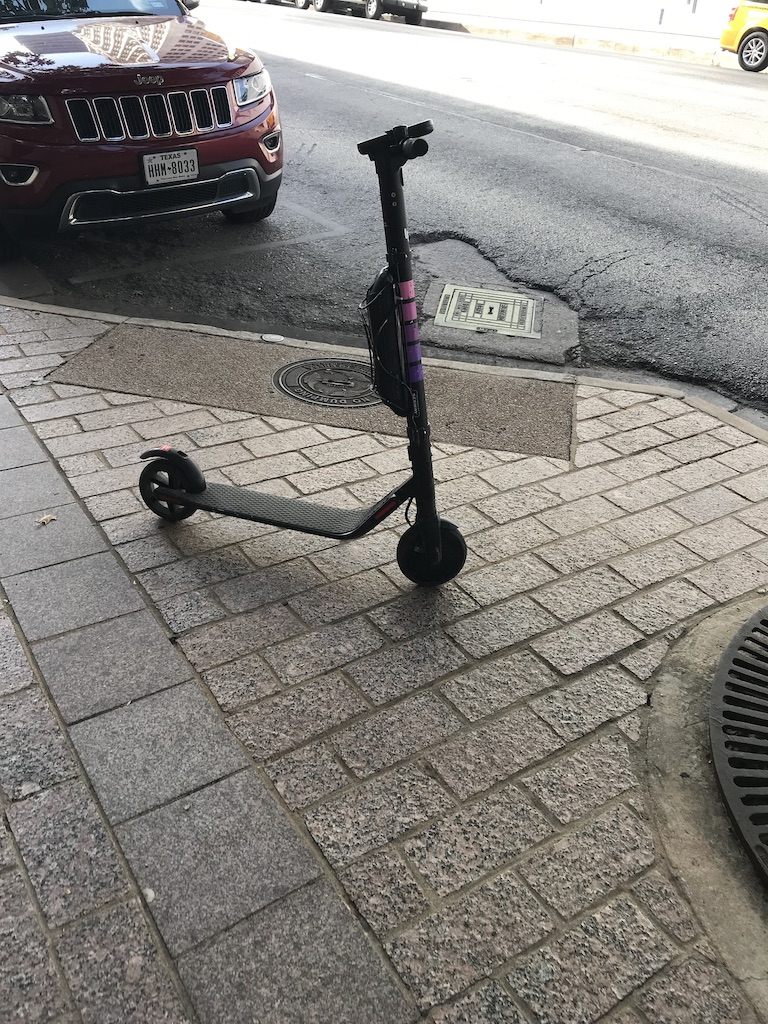scooter: (139, 120, 467, 590)
